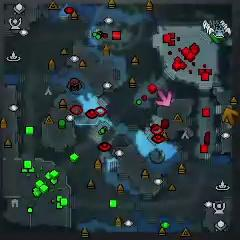x1: (157, 91, 172, 108)
x4: (210, 33, 227, 45)
x5: (220, 107, 237, 126)
